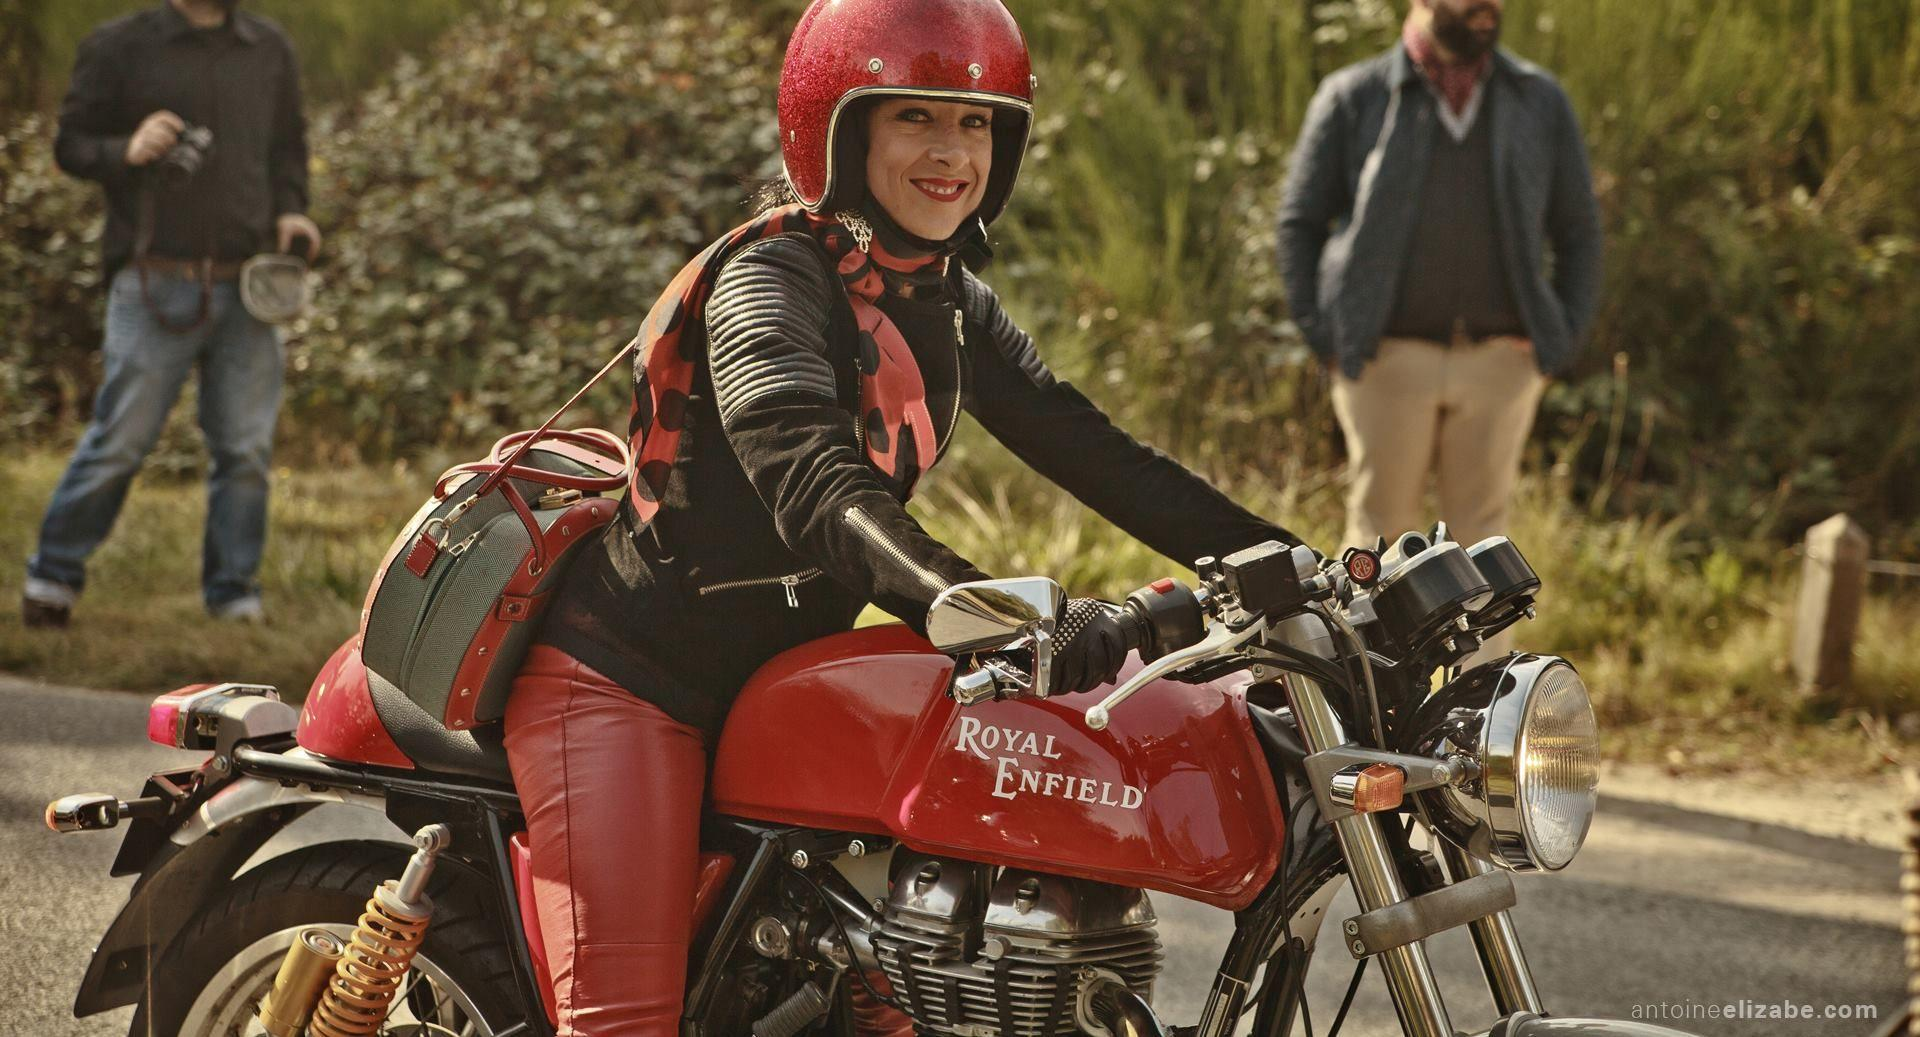Motorcycle: (135, 524, 1729, 1037)
